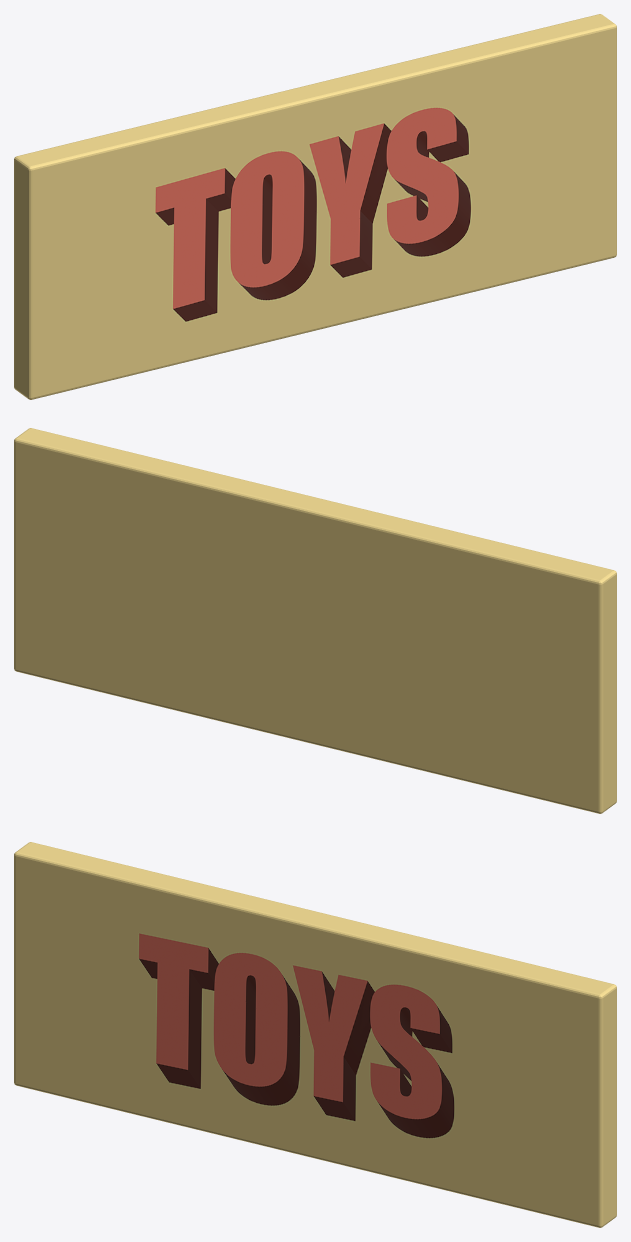
File: toys.fbx
3 views of the same model, one above another, from view 1: azimuth 30°, elevation 25°; view 2: azimuth 150°, elevation 25°; view 3: azimuth 330°, elevation 25° (orthographic).
Parts seen in each view (by area): view 1: toys; view 2: toys; view 3: toys.
Boxes of the visible parts, x1=… form: toys: x1=14, y1=14, x2=616, y2=399; toys: x1=14, y1=428, x2=616, y2=813; toys: x1=14, y1=842, x2=616, y2=1227.
Size of the model in its own units: 102 by 38.8 by 5.
1 material, 1 textured.
